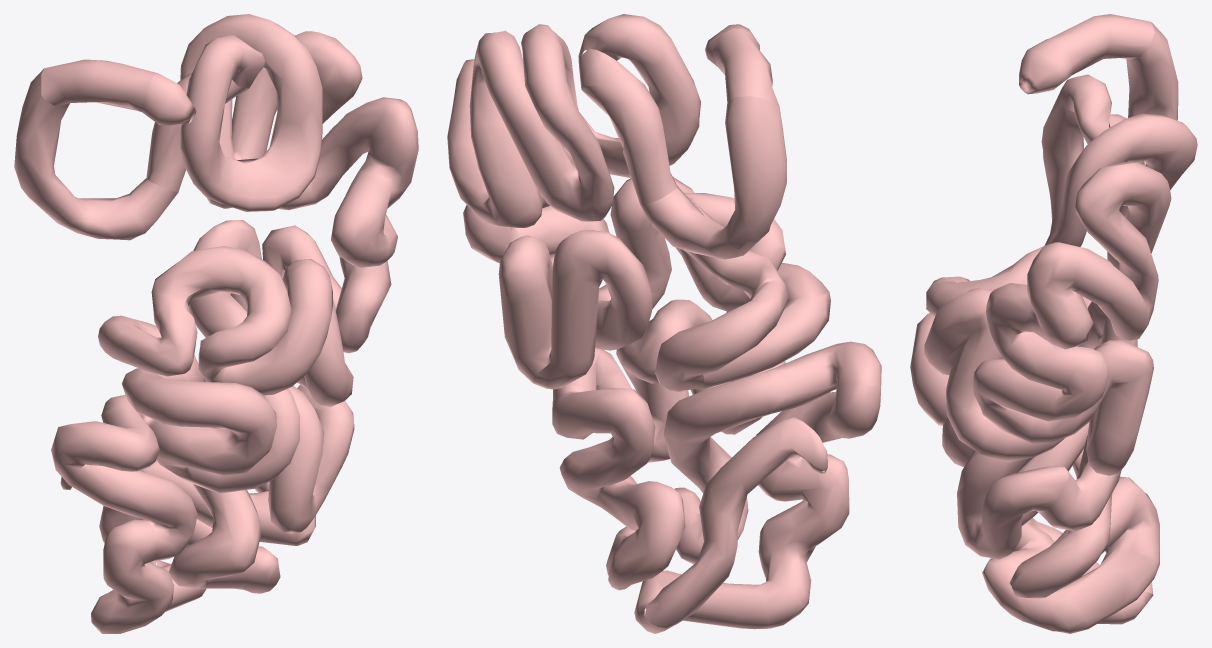
Rendered from intestine_small.glb.
3 views of the same model, side by side, from view 1: azimuth 30°, elevation 25°; view 2: azimuth 150°, elevation 25°; view 3: azimuth 270°, elevation 25° (orthographic). The views are drawn at different scales.
Size of the model in its own units: 0.1876 by 0.2652 by 0.1221.
